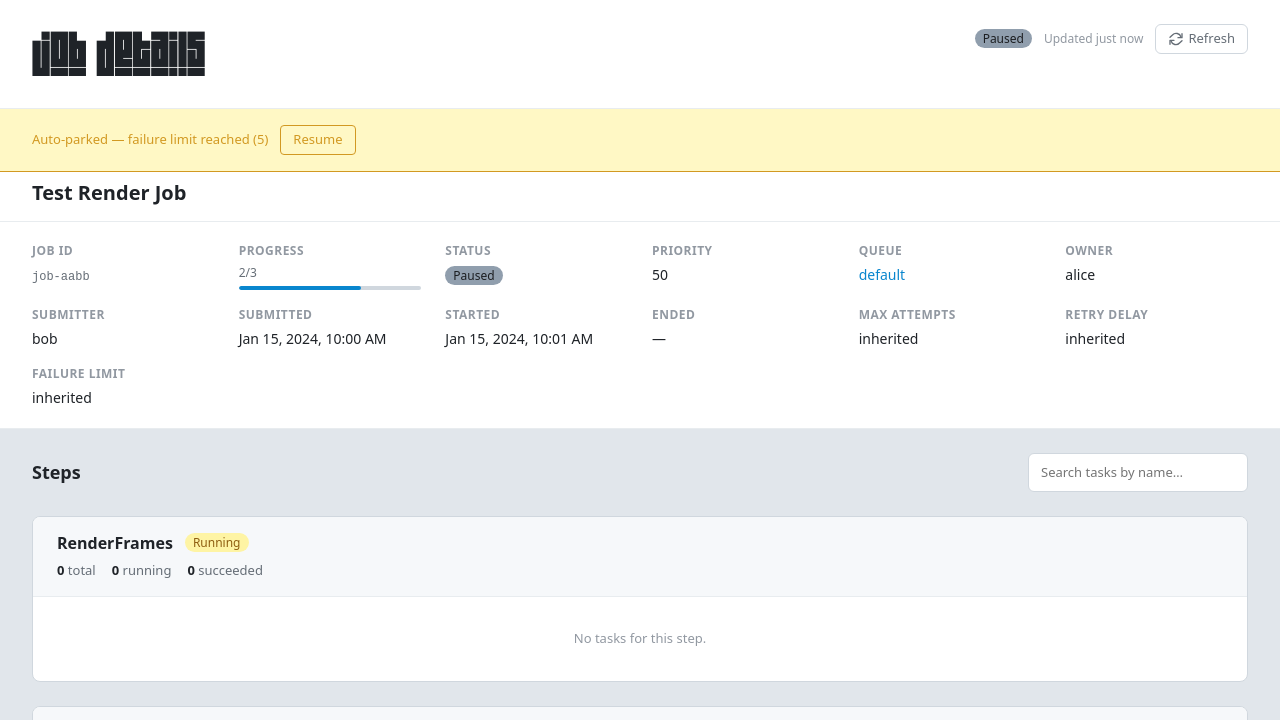
Test case: JobDetail › auto-park banner › shows an inline error when resume fails
Click the button "Resume" at (318, 140), box [280,125,356,154]
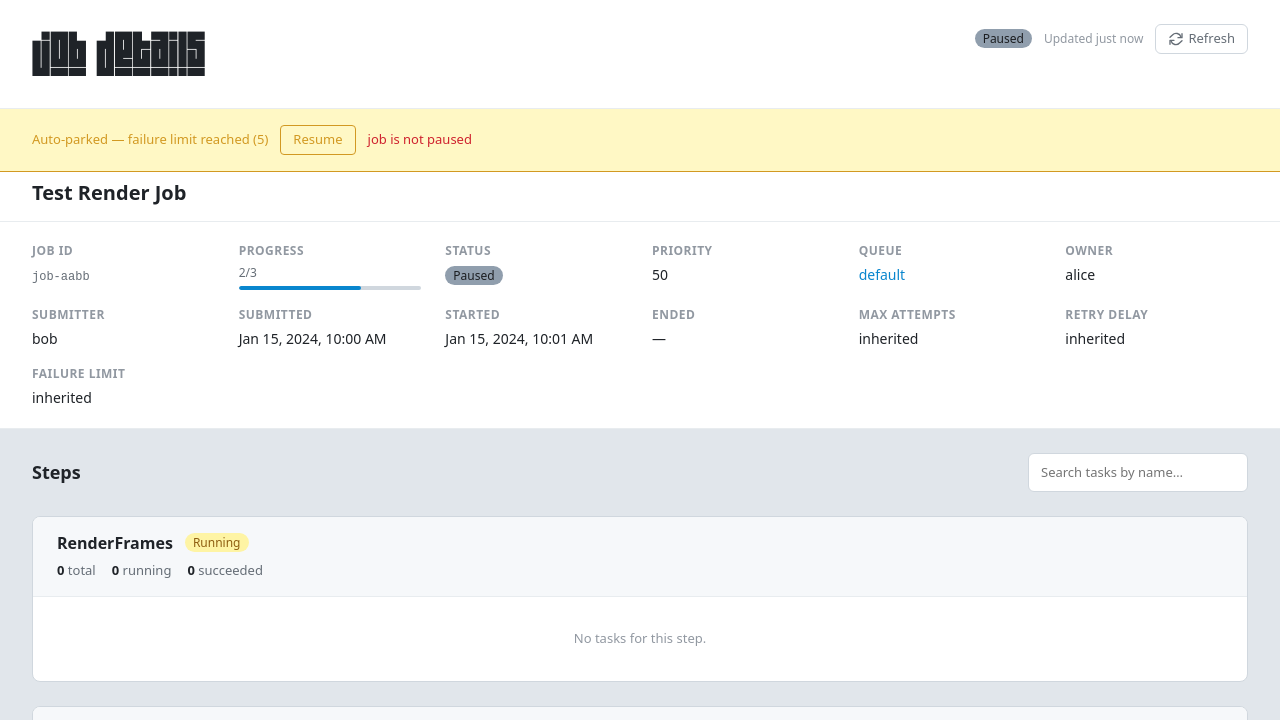
Now the text "job is not paused" is shown, box [368,130,472,150]
